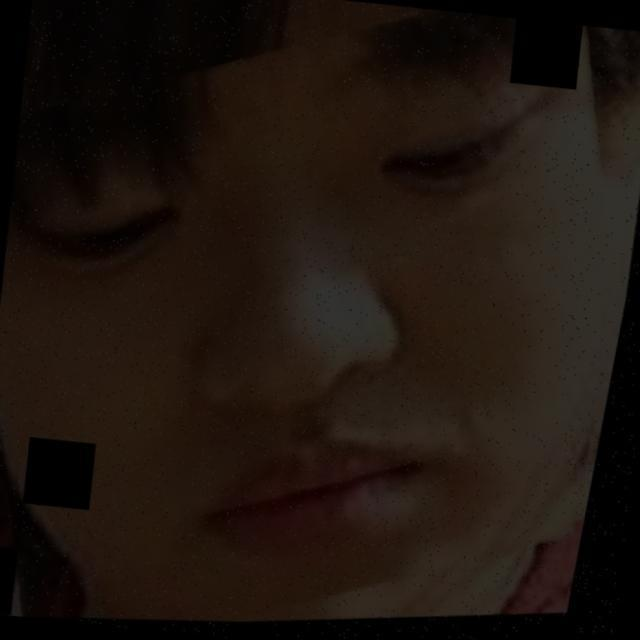Sad: (9, 25, 606, 598)
